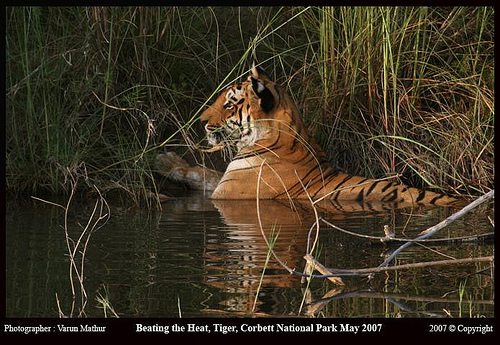Tigre: (194, 83, 330, 210)
